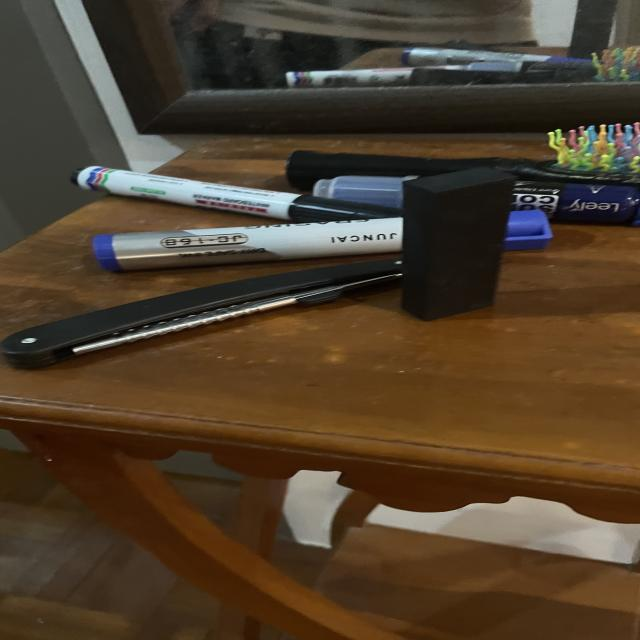eraser: (402, 168, 514, 321)
marker: (72, 166, 403, 223), (90, 218, 403, 271), (511, 181, 640, 226), (313, 175, 413, 208), (502, 209, 553, 251)
